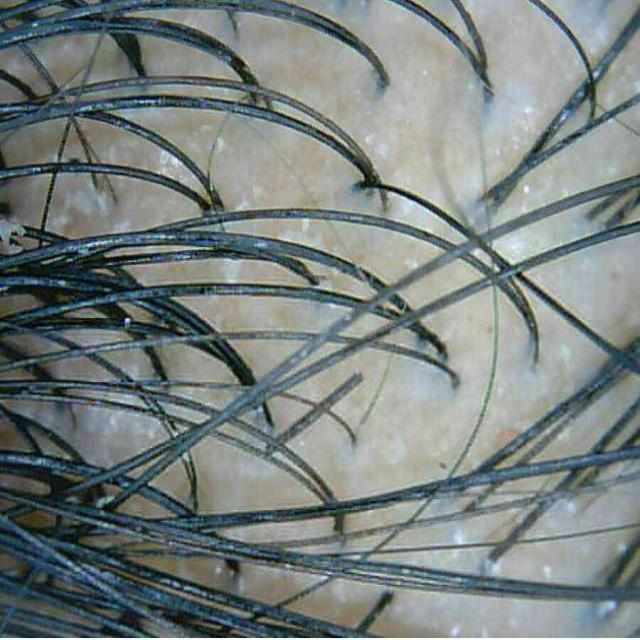d: (0, 220, 25, 254)
